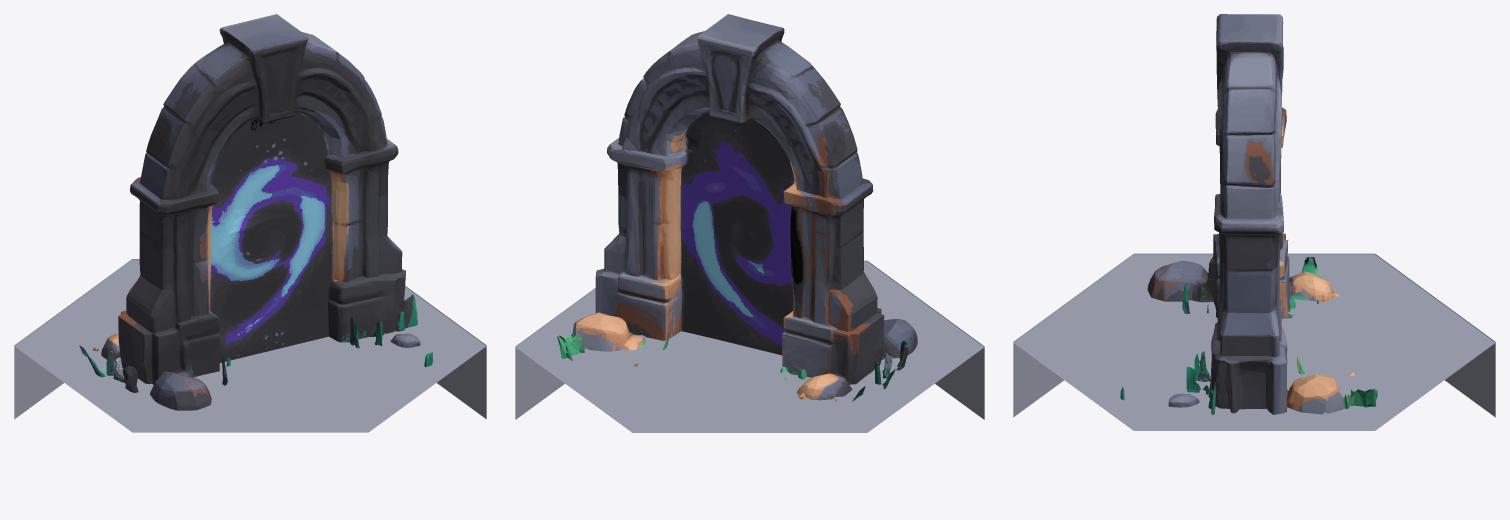
The model's file is once-in-a-lifetime-portal.glb.
3 views of the same model, side by side, from view 1: azimuth 30°, elevation 25°; view 2: azimuth 150°, elevation 25°; view 3: azimuth 270°, elevation 25° (orthographic). The views are drawn at different scales.
Parts seen in each view (by area): view 1: world, hexBase; view 2: world, hexBase; view 3: hexBase, world.
Boxes of the visible parts, x1,y1,x2,y2 form: world: [79, 14, 432, 410]; hexBase: [14, 259, 486, 432]; world: [557, 14, 917, 401]; hexBase: [515, 260, 984, 432]; hexBase: [1013, 253, 1495, 430]; world: [1120, 14, 1377, 414].
Size of the model in its own units: 1 by 1.04 by 1.15.
Materials: 3 (1 with a texture image).
